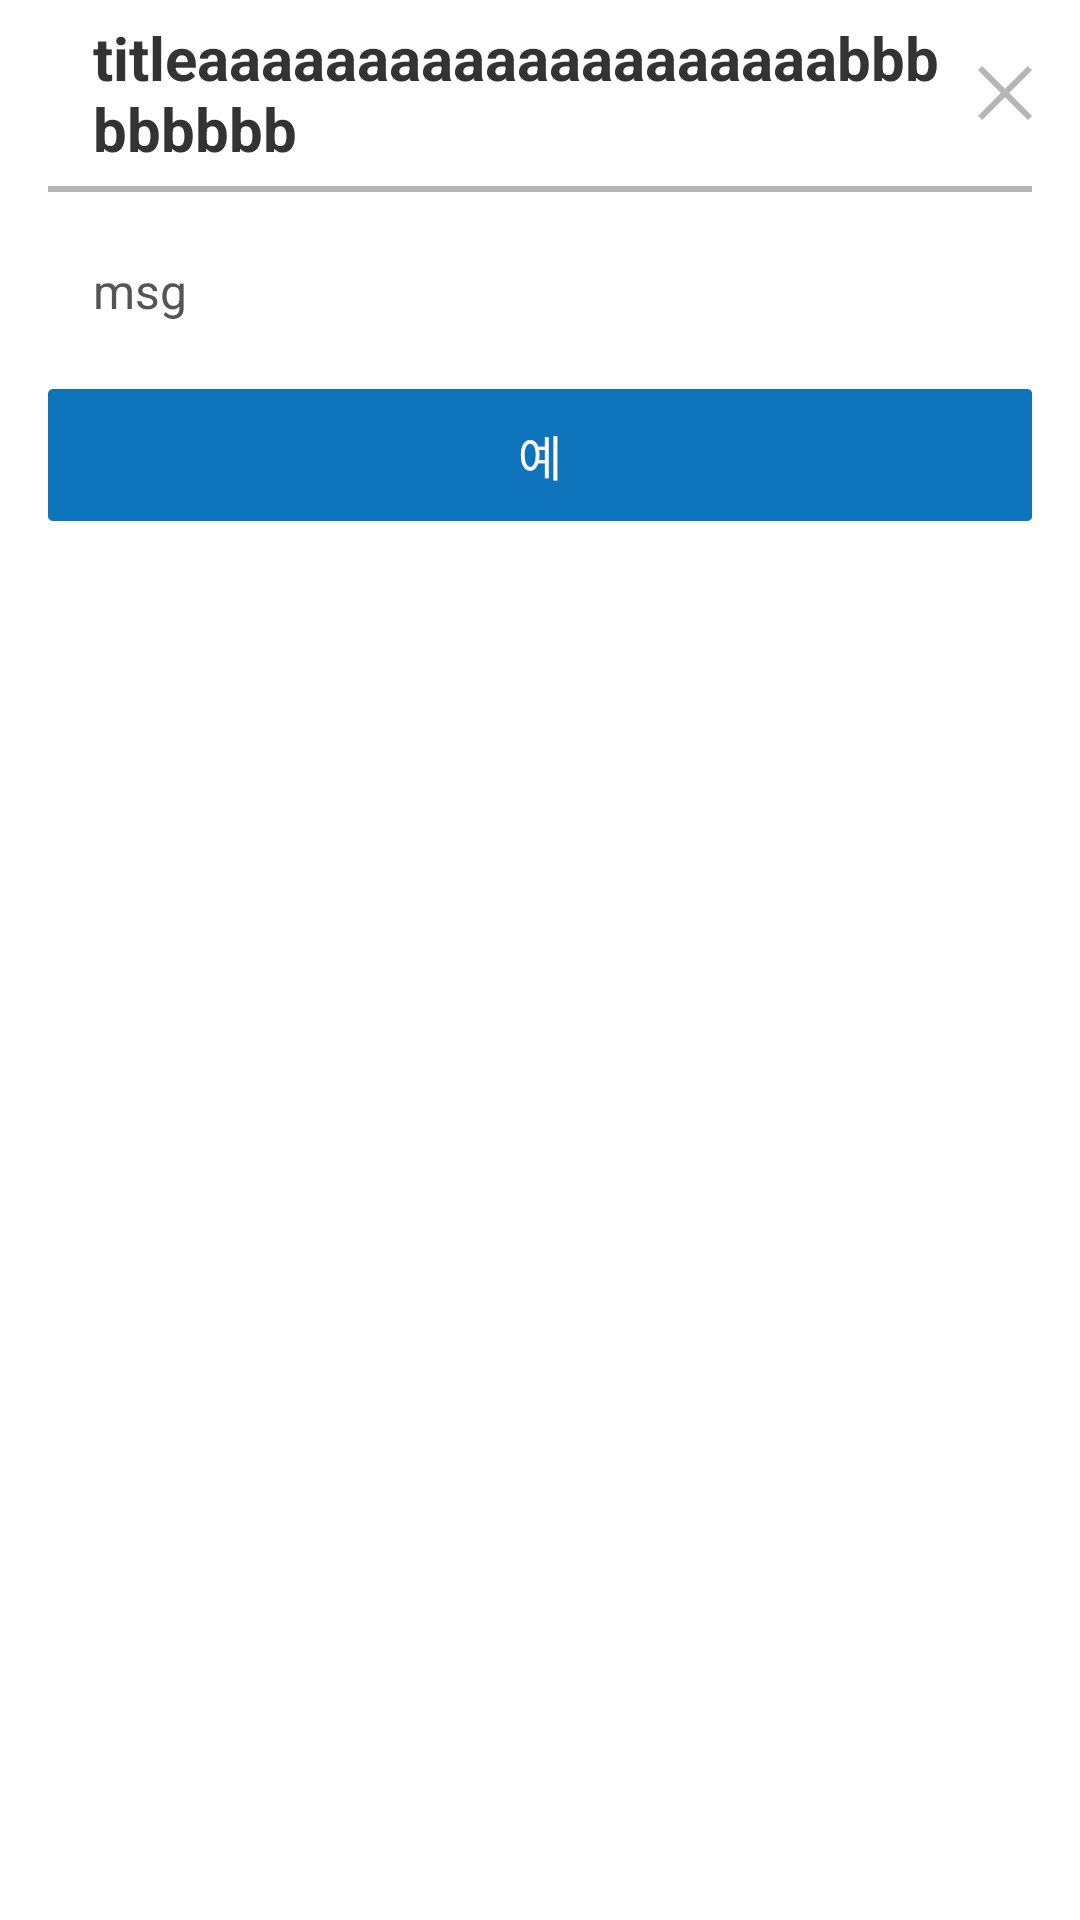

Point at icon controls on the screen. Image size 1080x1920, points as (x,y).
popup close: (1005,93)
